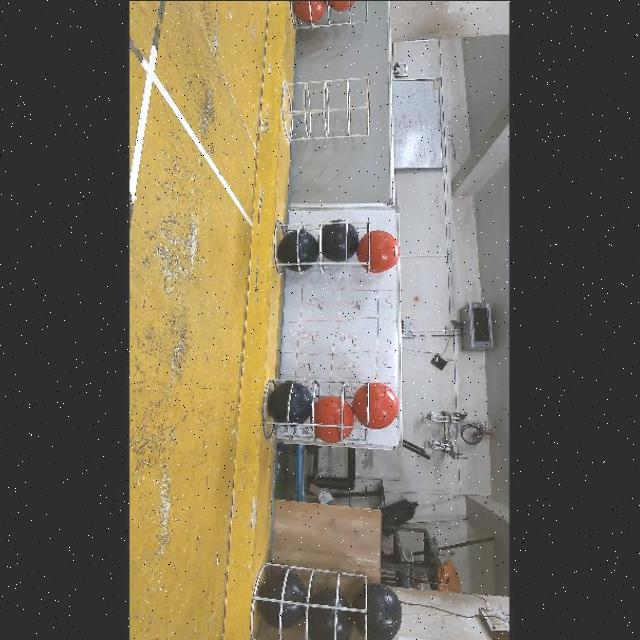P: (257, 569, 306, 630), (352, 582, 402, 640), (307, 590, 355, 640), (268, 382, 313, 427), (278, 230, 319, 272), (321, 219, 359, 262)
R: (352, 382, 398, 429), (314, 395, 356, 443), (356, 230, 400, 272), (291, 0, 327, 23), (327, 0, 355, 11)
S: (250, 556, 376, 640), (260, 370, 378, 446), (270, 214, 378, 282), (276, 77, 369, 149), (283, 0, 371, 34)
